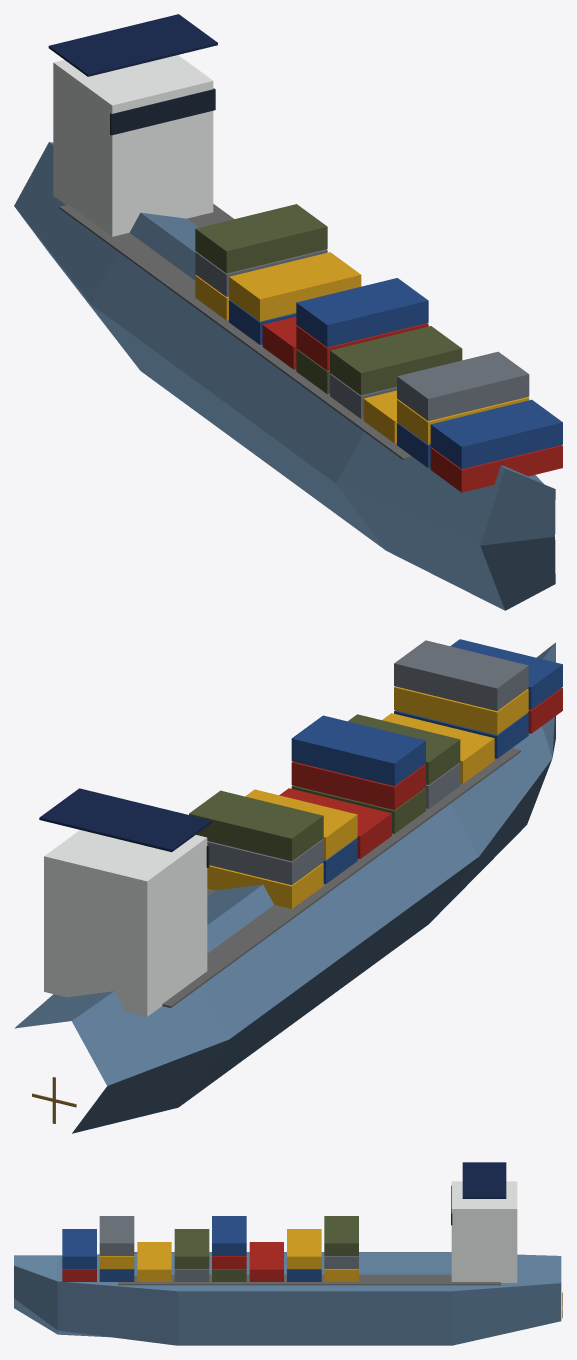
The model's file is veh_naval_merchant_a10_lod1.glb.
The picture shows the model from 3 angles, top to bottom: view 1: azimuth 30°, elevation 25°; view 2: azimuth 150°, elevation 25°; view 3: azimuth 270°, elevation 25°; orthographic projection. The views are drawn at different scales.
Visible parts, largest first — view 1: body; view 2: body; view 3: body.
Part boxes in pixels (x1,y1,x2,y2): body: (14, 14, 562, 610); body: (14, 639, 562, 1133); body: (14, 1162, 561, 1345).
Bounding box in the file's own units: 6.14 × 12.79 × 38.13.
